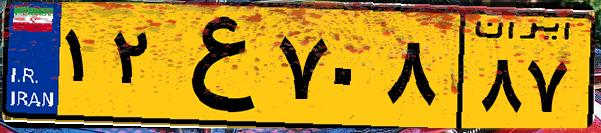0: (330, 28, 385, 110)
1: (57, 26, 110, 100)
2: (110, 28, 158, 98)
7: (270, 28, 330, 110), (525, 38, 570, 115)
8: (385, 28, 445, 110), (475, 38, 525, 113)
ع: (158, 12, 270, 120)
